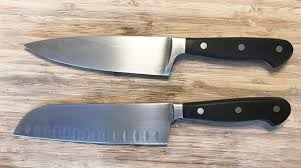knife: (12, 96, 292, 146), (21, 34, 295, 78)
